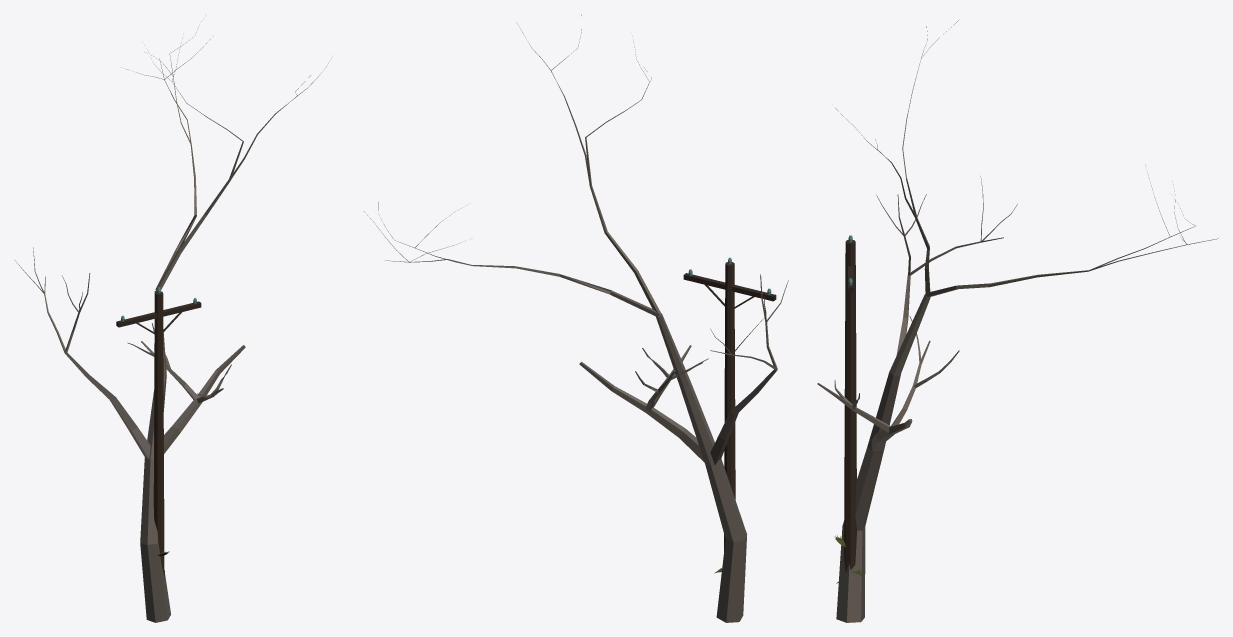
Rendered from dove_field.glb.
3 views of the same model, side by side, from view 1: azimuth 30°, elevation 25°; view 2: azimuth 150°, elevation 25°; view 3: azimuth 270°, elevation 25° (orthographic). The views are drawn at different scales.
Visible parts, largest first — view 1: Snag, Pole; view 2: Snag, Pole; view 3: Snag, Pole.
Part boxes in pixels (x1,y1,x2,y2): Snag: (15, 32, 329, 622); Pole: (116, 287, 201, 577); Snag: (364, 14, 788, 622); Pole: (683, 257, 776, 551); Snag: (817, 20, 1218, 622); Pole: (844, 235, 856, 573).
Size of the model in its own units: 8.28 by 15.21 by 8.69.
